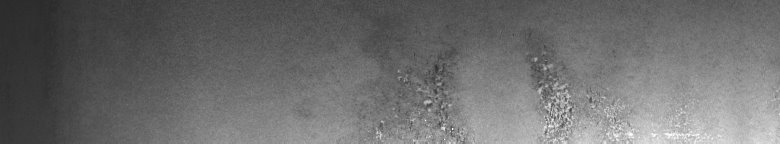hc: (368, 55, 464, 136)
